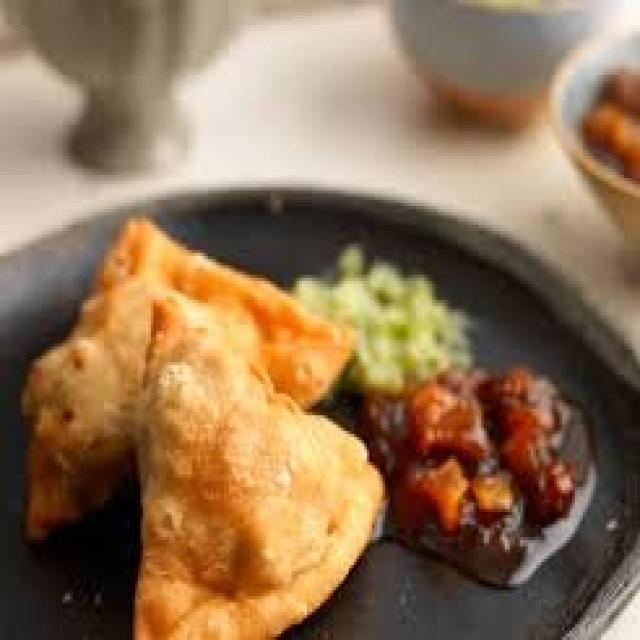SAMOSA: (21, 219, 382, 637), (130, 300, 382, 637), (135, 340, 380, 637), (101, 219, 284, 300)
